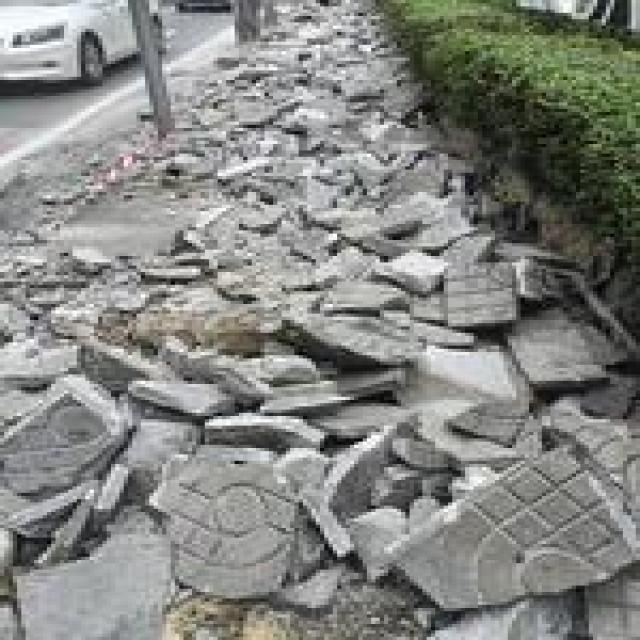road collapse: (9, 22, 636, 640)
